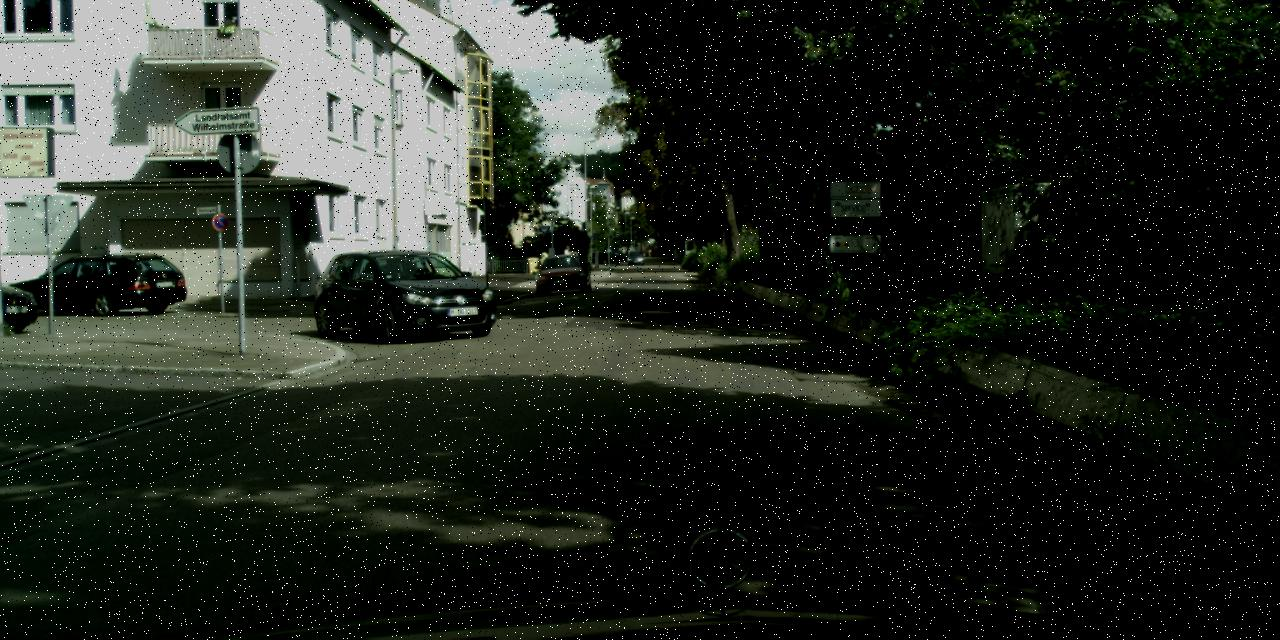ped: (560, 245, 572, 273)
